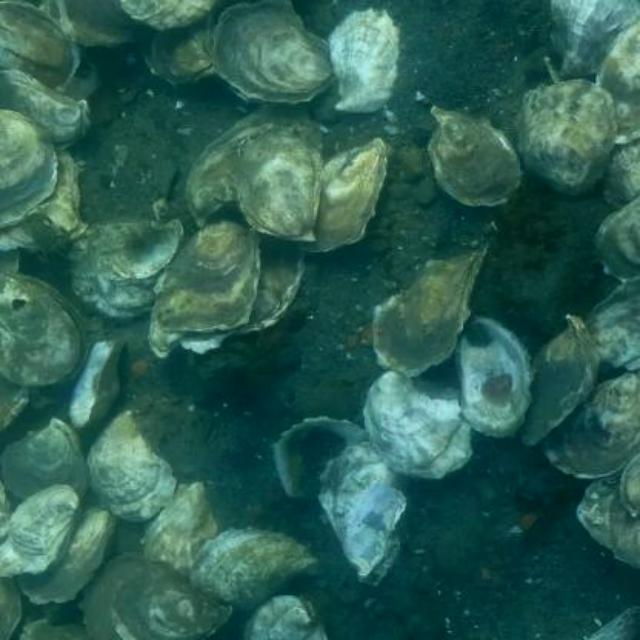Oyster-Closed: (148, 232, 305, 359), (372, 223, 495, 373), (186, 105, 323, 227), (156, 204, 261, 332), (80, 556, 232, 640), (214, 0, 334, 106), (321, 441, 408, 586), (362, 371, 471, 480), (71, 218, 184, 320), (520, 79, 617, 196), (537, 373, 640, 482), (297, 137, 388, 253), (0, 272, 90, 388), (87, 409, 177, 523), (520, 315, 599, 444), (190, 527, 318, 606), (234, 125, 320, 241), (18, 508, 116, 604), (0, 145, 87, 252), (429, 107, 522, 207), (330, 6, 408, 114), (0, 486, 81, 578), (0, 1, 81, 91), (0, 71, 92, 150), (1, 418, 89, 499), (550, 0, 640, 79), (144, 483, 219, 577), (0, 108, 57, 228), (140, 6, 216, 83), (576, 482, 640, 568), (595, 25, 640, 145), (587, 277, 640, 373), (57, 0, 154, 47), (594, 198, 640, 281), (246, 595, 329, 640), (120, 0, 218, 31), (604, 139, 640, 208), (0, 374, 29, 434), (0, 577, 22, 640), (271, 607, 313, 640), (620, 451, 640, 517), (21, 624, 94, 640), (40, 0, 62, 26), (0, 250, 19, 274)
